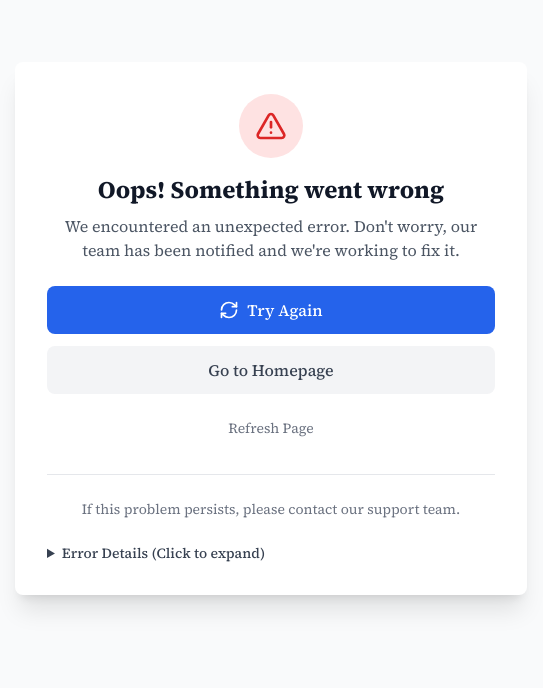
ErrorBoundary › should show error details when expanded
What coordinates should you click on to do the following:
click the heading "Error Details (Click to expand)"
I would click on:
 (163, 552)
Its box is [62,542,265,562].
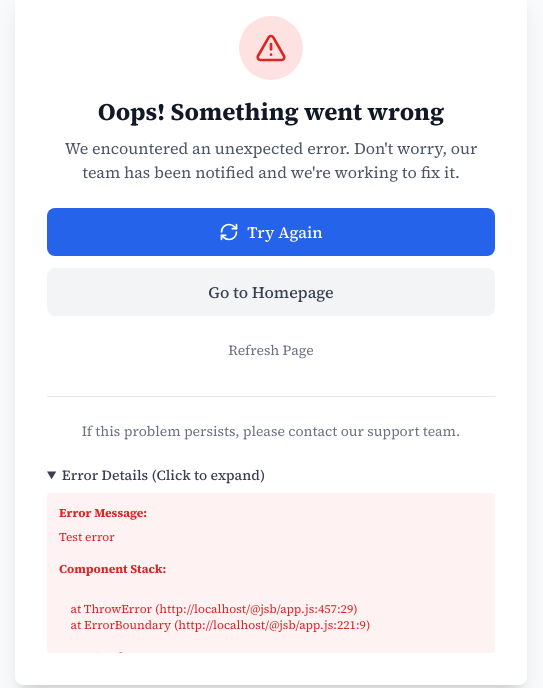
Expected: the text "Test error" is shown, [59,529,115,545]
